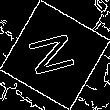N_E: (26, 29, 84, 81)
